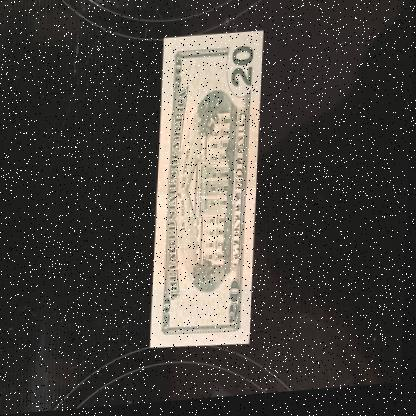twenty-back: (154, 32, 264, 354)
